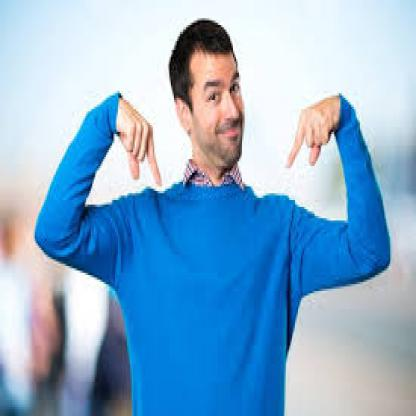Down: (111, 76, 166, 196), (282, 84, 337, 197)
